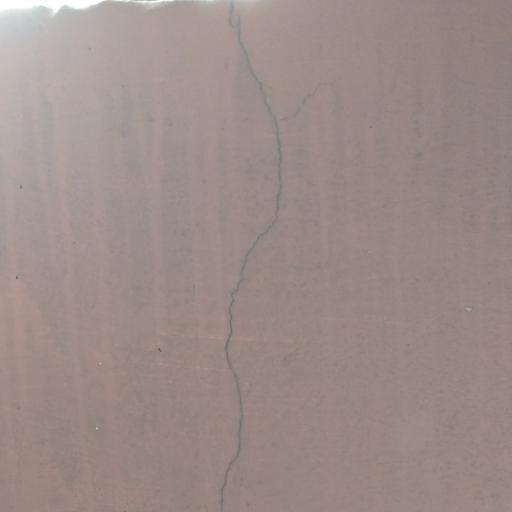minor_crack: (186, 7, 328, 512)
